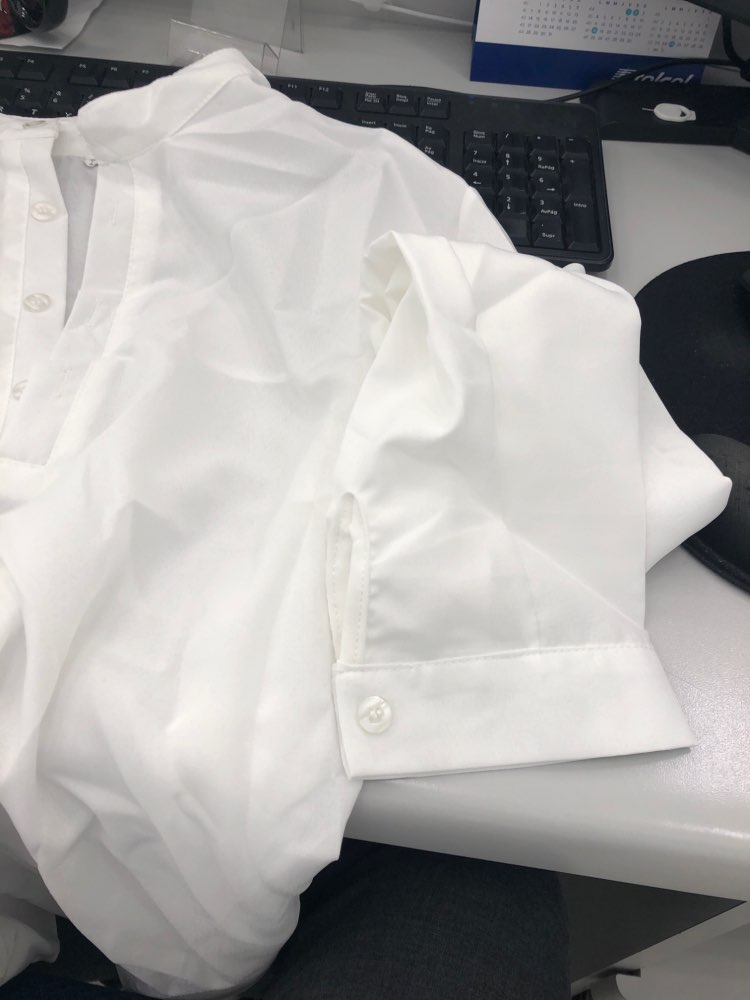shirts: (22, 83, 685, 910)
